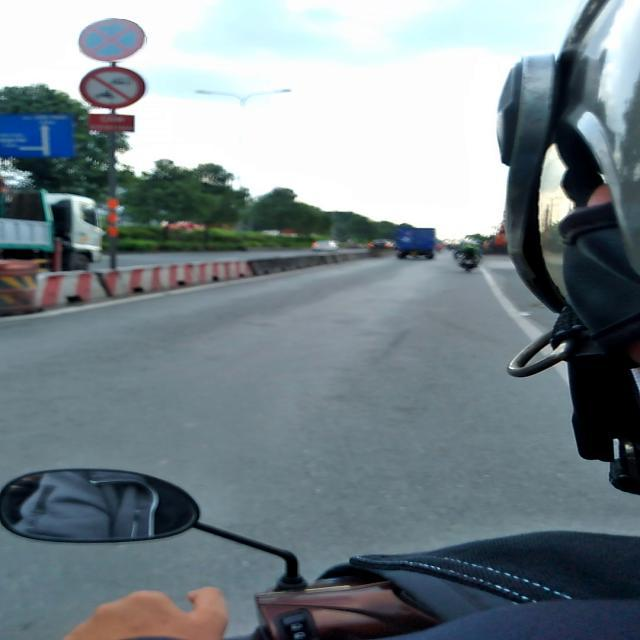P-130: (79, 19, 148, 62)
